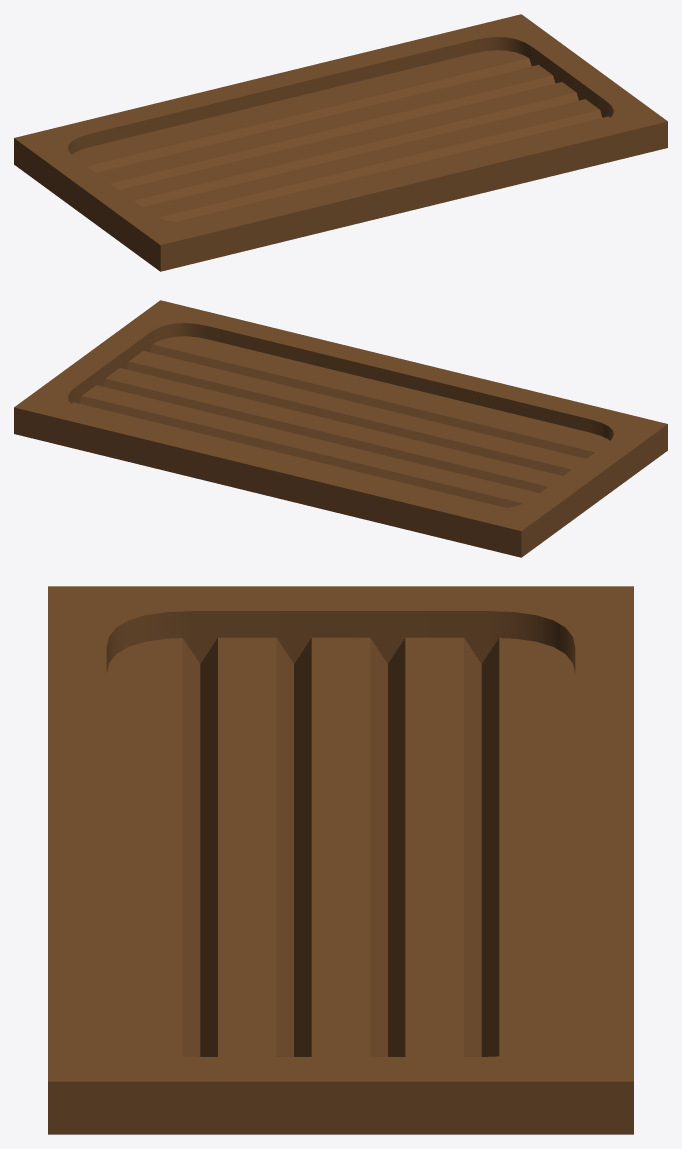
Rendered from Ceiling_B_2x1m.FBX.
3 views of the same model, one above another, from view 1: azimuth 30°, elevation 25°; view 2: azimuth 150°, elevation 25°; view 3: azimuth 270°, elevation 25° (orthographic). The views are drawn at different scales.
Parts seen in each view (by area): view 1: Ceiling_B_2x1m; view 2: Ceiling_B_2x1m; view 3: Ceiling_B_2x1m.
Boxes of the visible parts, x1,y1,x2,y2 form: Ceiling_B_2x1m: [14, 14, 667, 271]; Ceiling_B_2x1m: [14, 300, 667, 557]; Ceiling_B_2x1m: [48, 586, 633, 1134].
Size of the model in its own units: 200 by 10 by 100.
